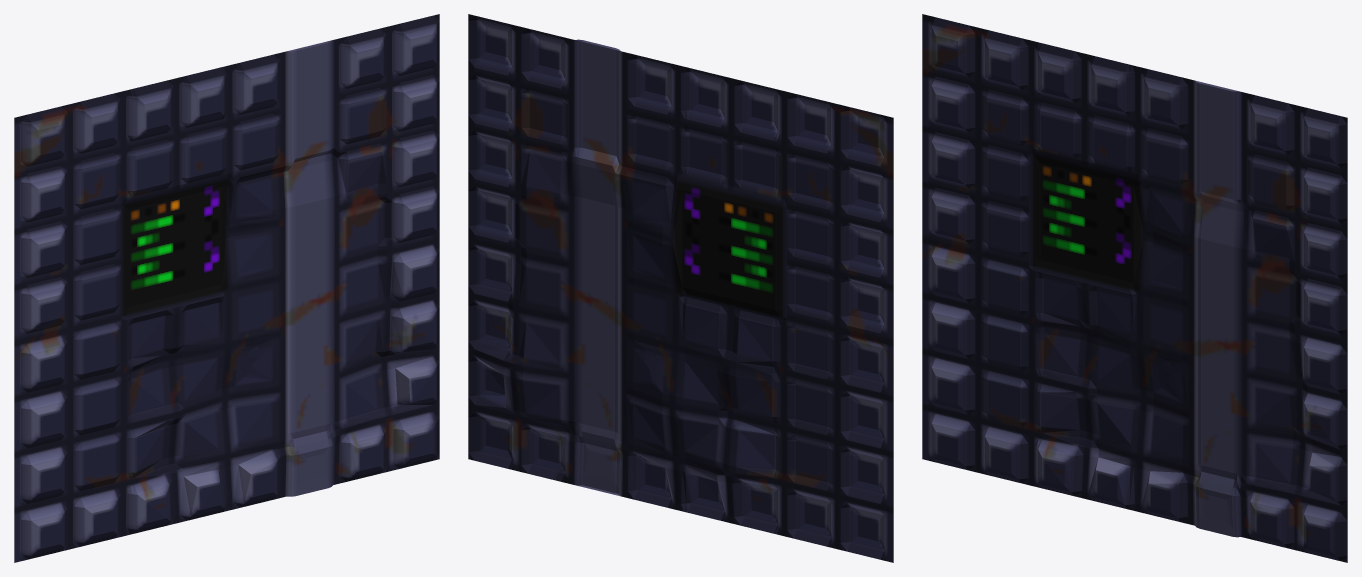
The model's file is med1_2d.fbx.
The picture shows the model from 3 angles, left to right: view 1: azimuth 30°, elevation 25°; view 2: azimuth 150°, elevation 25°; view 3: azimuth 330°, elevation 25°; orthographic projection.
Visible parts, largest first — view 1: med1_2_mesh; view 2: med1_2_mesh; view 3: med1_2_mesh.
Part boxes in pixels (x1=…): med1_2_mesh: x1=14, y1=14, x2=439, y2=562; med1_2_mesh: x1=468, y1=14, x2=893, y2=562; med1_2_mesh: x1=922, y1=14, x2=1347, y2=562.
Size of the model in its own units: 256 by 256 by 11.01.
